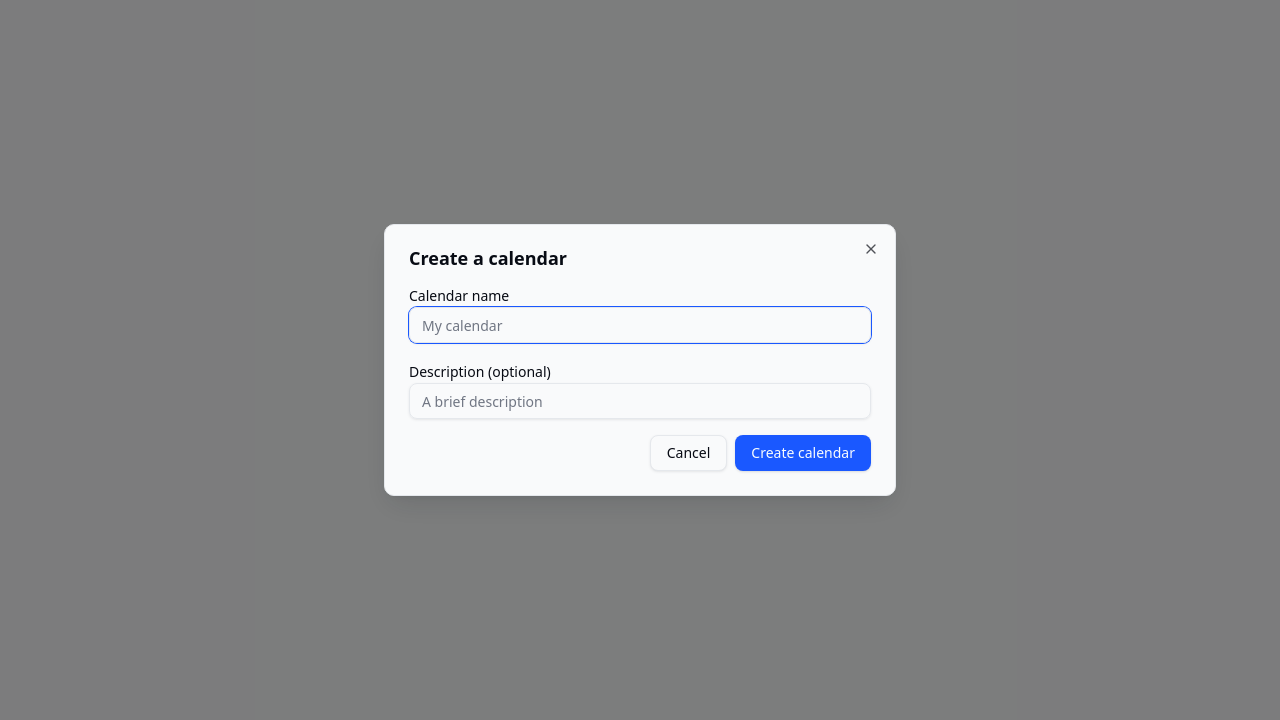
Test: CreateCalendarDialog › error handling › shows a server field error on its own input, not in a toast
Type "Duplicate" into the field labelled "Calendar name" at {"x": 640, "y": 325}, box [409,307,871,343]
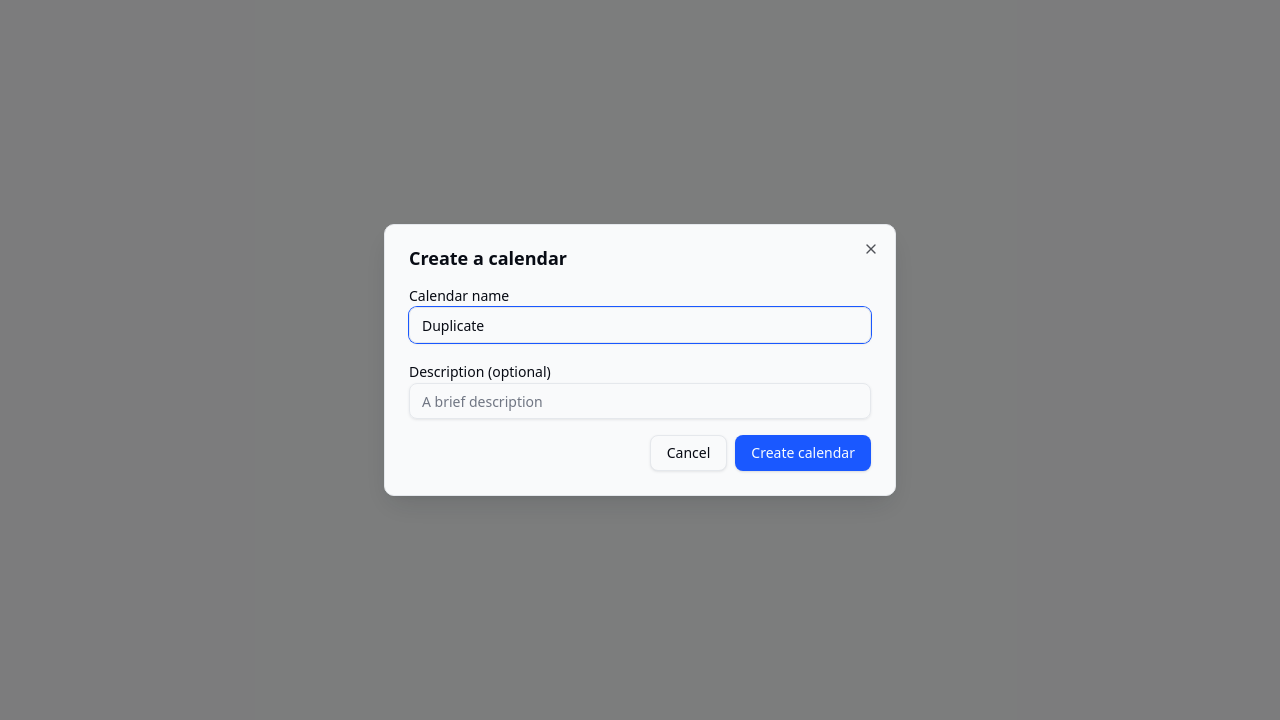
Click the button "Create calendar" at {"x": 803, "y": 453}, box [735,435,871,471]
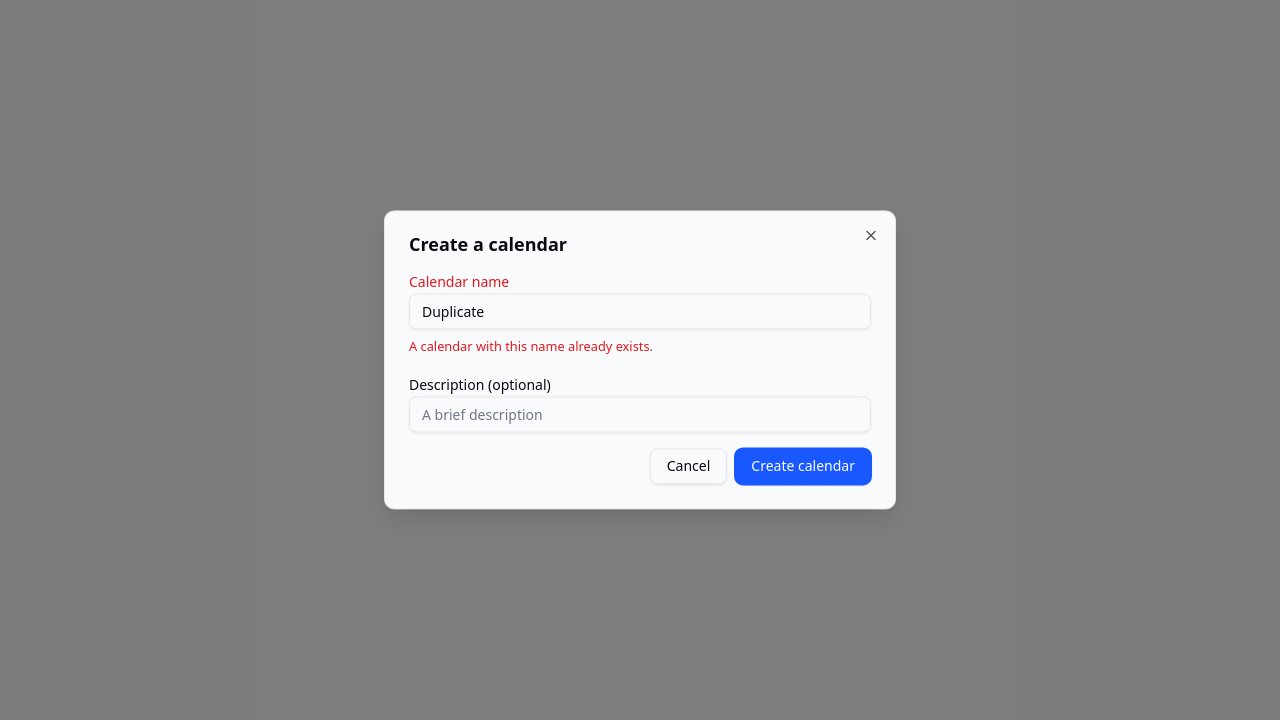
Expected: the text "A calendar with this name already exists." is shown, [409,337,653,355]
